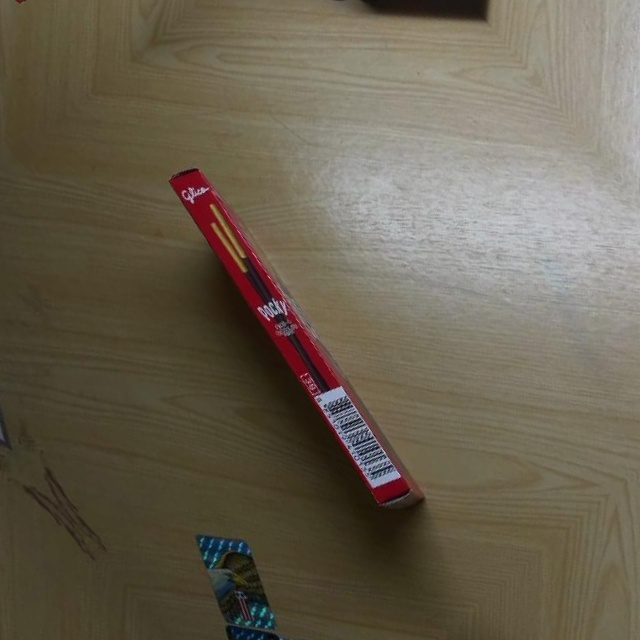Pocky: (131, 157, 456, 523)
